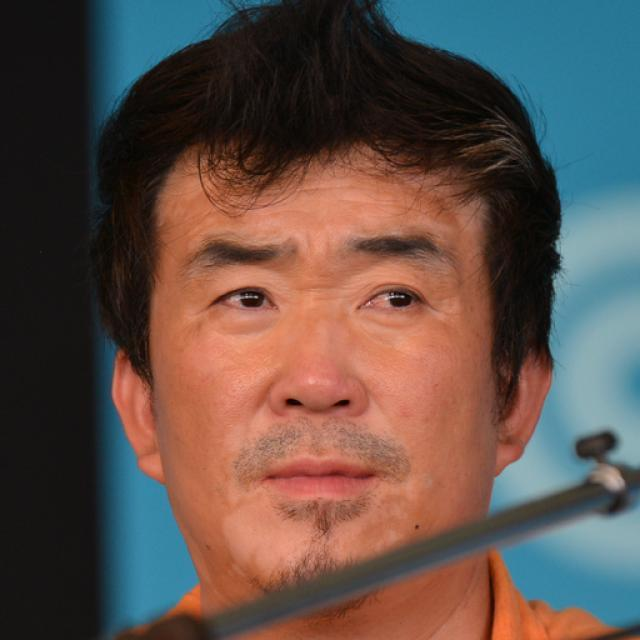surprise: (153, 128, 497, 586)
